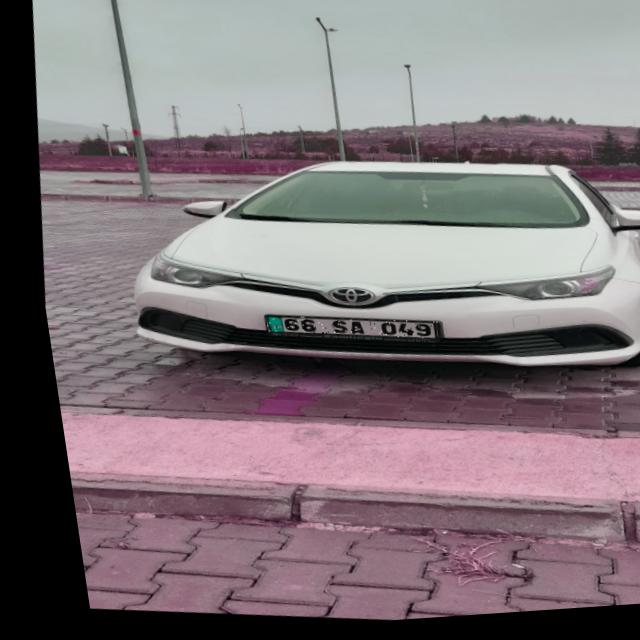license_plate: (252, 309, 429, 353)
